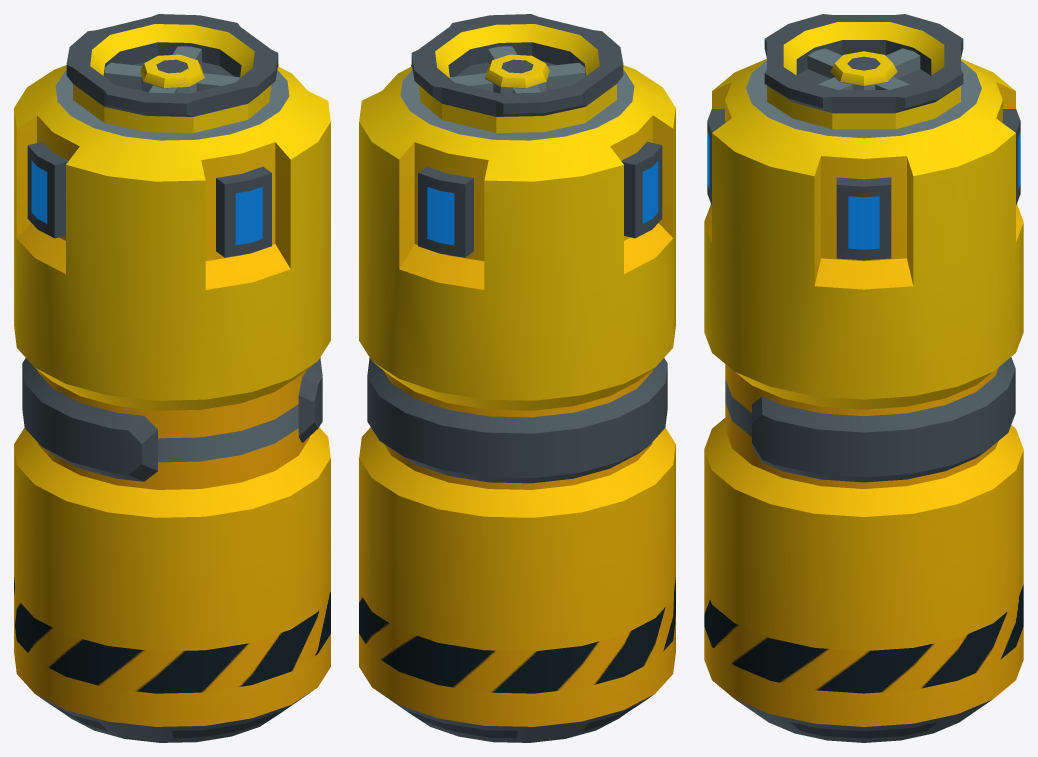
The model's file is Barrel_011.glb.
3 views of the same model, side by side, from view 1: azimuth 30°, elevation 25°; view 2: azimuth 150°, elevation 25°; view 3: azimuth 270°, elevation 25° (orthographic).
Parts seen in each view (by area): view 1: Barrel_011; view 2: Barrel_011; view 3: Barrel_011.
Boxes of the visible parts, left/top/right/bottom form: Barrel_011: left=14, top=14, right=330, bottom=742; Barrel_011: left=359, top=14, right=675, bottom=742; Barrel_011: left=704, top=14, right=1023, bottom=742.
Bounding box in the file's own units: 0.6 × 1.32 × 0.6.
Materials: 2 (2 with a texture image).
